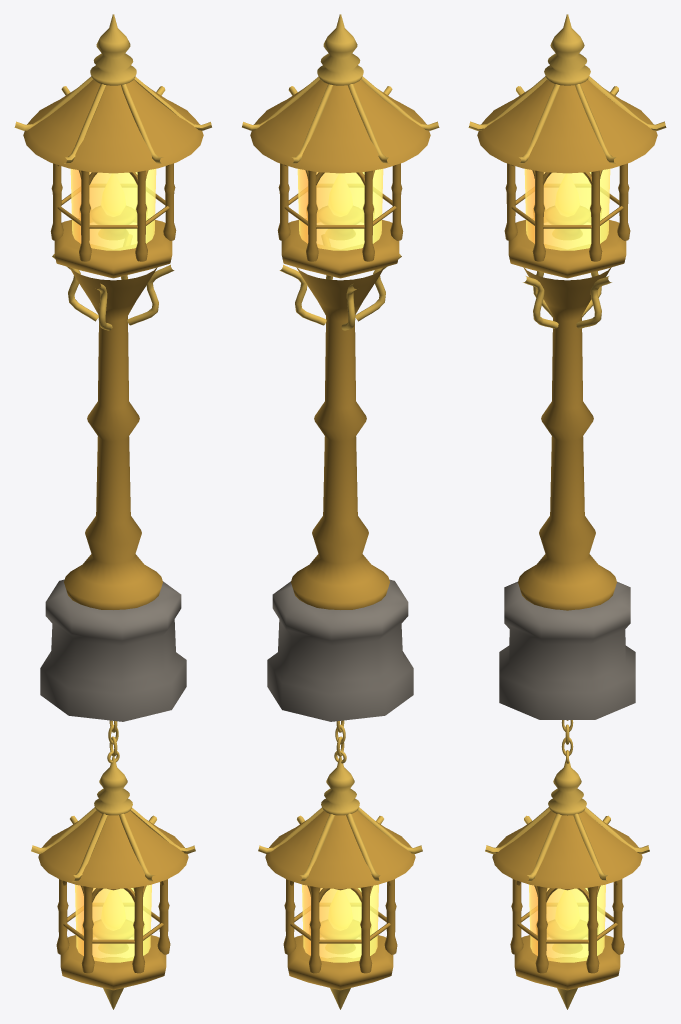
The model's file is nepali_brass_lanterns.glb.
3 views of the same model, side by side, from view 1: azimuth 30°, elevation 25°; view 2: azimuth 150°, elevation 25°; view 3: azimuth 270°, elevation 25° (orthographic).
Parts seen in each view (by area): view 1: PagodaRoof (×2), StoneChaukathPlinth, TurnedBrassShaft, LanternGlass (×2), ChamberTray (×2), GajurFinial (×2), CornerPost_2 (×2), CornerPost_1 (×2), CornerPost_0 (×2), CornerPost_3 (×2), ScrollBracket_0, RoofRib_2 (+1 smaller); view 2: PagodaRoof (×2), StoneChaukathPlinth, TurnedBrassShaft, LanternGlass (×2), ChamberTray (×2), GajurFinial (×2), CornerPost_3 (×2), CornerPost_4 (×2), CornerPost_5 (×2), CornerPost_2 (×2), ScrollBracket_3, RoofRib_3 (+1 smaller); view 3: PagodaRoof (×2), StoneChaukathPlinth, TurnedBrassShaft, LanternGlass (×2), ChamberTray (×2), GajurFinial (×2), CornerPost_0 (×2), CornerPost_5 (×2), CornerPost_1 (×2), CornerPost_4 (×2), ScrollBracket_0, ScrollBracket_3 (+2 smaller).
Boxes of the visible parts, x1,y1,x2,y2 form: PagodaRoof (×2): [23, 79, 203, 888]; StoneChaukathPlinth: [40, 579, 186, 721]; TurnedBrassShaft: [64, 267, 162, 609]; LanternGlass (×2): [70, 169, 156, 962]; ChamberTray (×2): [54, 220, 172, 990]; GajurFinial (×2): [90, 14, 136, 815]; CornerPost_2 (×2): [79, 170, 94, 973]; CornerPost_1 (×2): [132, 170, 147, 973]; CornerPost_0 (×2): [157, 163, 176, 954]; CornerPost_3 (×2): [50, 163, 69, 954]; ScrollBracket_0: [127, 264, 174, 325]; RoofRib_2: [64, 84, 106, 163]; PagodaRoof (×2): [250, 79, 430, 888]; StoneChaukathPlinth: [267, 579, 413, 721]; TurnedBrassShaft: [291, 267, 389, 609]; LanternGlass (×2): [297, 169, 383, 962]; ChamberTray (×2): [281, 220, 399, 990]; GajurFinial (×2): [317, 14, 363, 815]; CornerPost_3 (×2): [359, 170, 374, 973]; CornerPost_4 (×2): [306, 170, 321, 973]; CornerPost_5 (×2): [277, 163, 296, 954]; CornerPost_2 (×2): [384, 163, 403, 954]; ScrollBracket_3: [279, 264, 326, 325]; RoofRib_3: [347, 84, 389, 163]; PagodaRoof (×2): [477, 80, 657, 888]; StoneChaukathPlinth: [499, 581, 635, 719]; TurnedBrassShaft: [518, 267, 616, 610]; LanternGlass (×2): [524, 169, 610, 962]; ChamberTray (×2): [508, 220, 626, 990]; GajurFinial (×2): [544, 14, 590, 815]; CornerPost_0 (×2): [532, 170, 548, 973]; CornerPost_5 (×2): [586, 170, 602, 973]; CornerPost_1 (×2): [504, 163, 523, 954]; CornerPost_4 (×2): [611, 163, 630, 954]; ScrollBracket_0: [523, 276, 558, 328]; ScrollBracket_3: [576, 276, 611, 328].
Size of the model in its own units: 0.6 by 3.65 by 0.6588.
